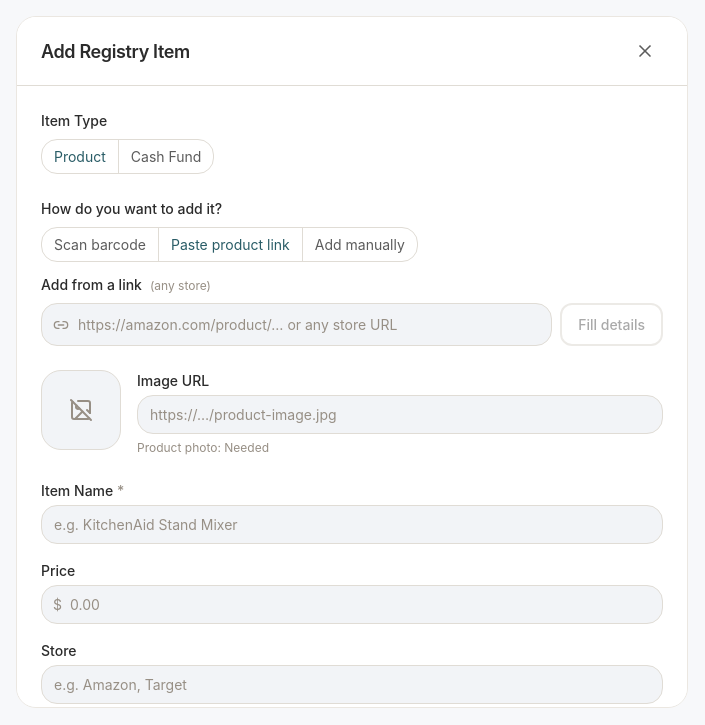
it: RegistryItemForm › shows review required copy for low-confidence barcode matches
Click the button "Scan barcode" at (100, 245), box [42,228,158,261]
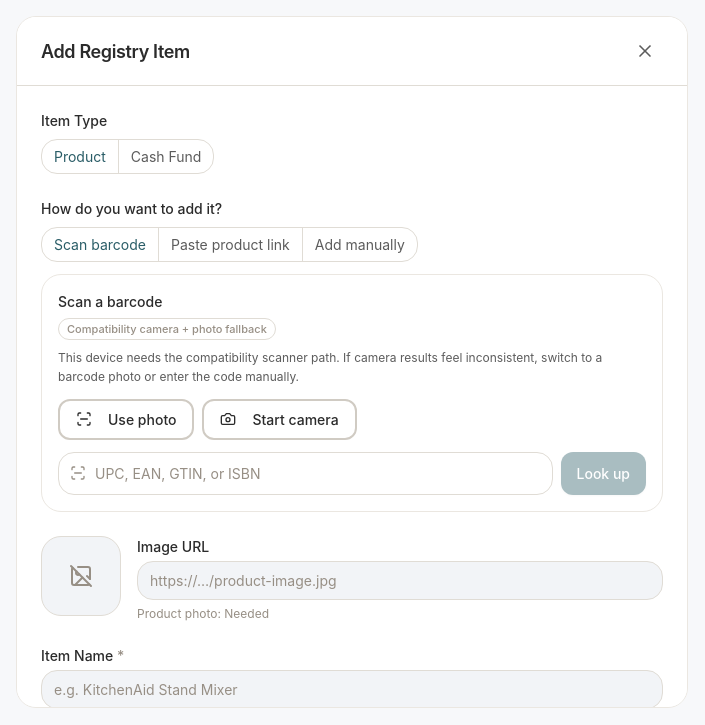
Type "5449000000996" into the field with placeholder "UPC, EAN, GTIN, or ISBN" at (305, 473), box [58,452,552,495]
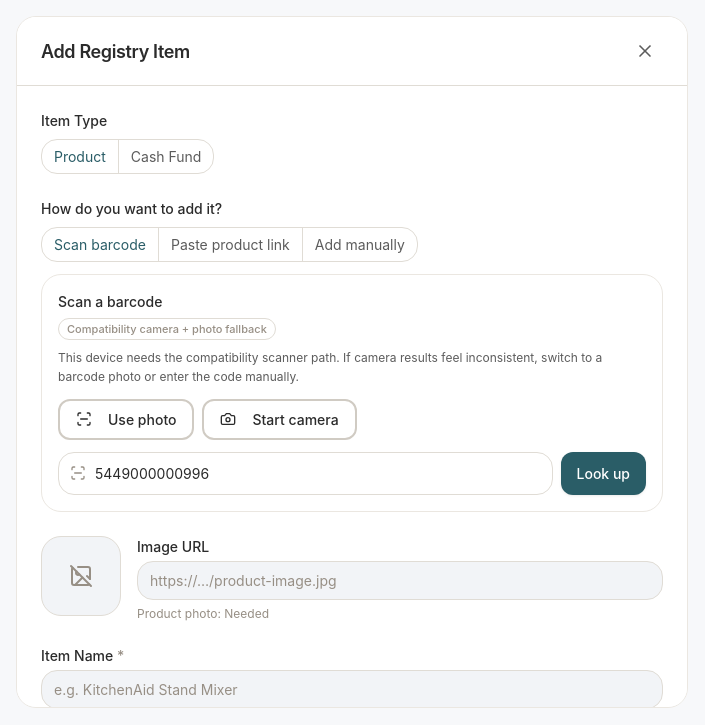
Click the button "Look up" at (603, 473), box [560,452,646,495]
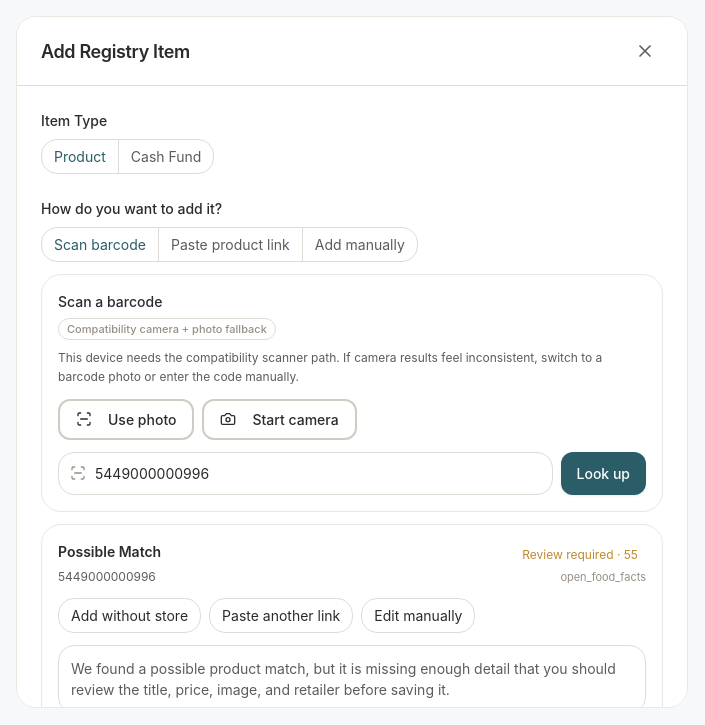
Now the text "Review required · 55" is shown, box [514,543,646,566]
Now the text "review the title, price, image, and retailer before saving it" is shown, box [71,660,616,698]
